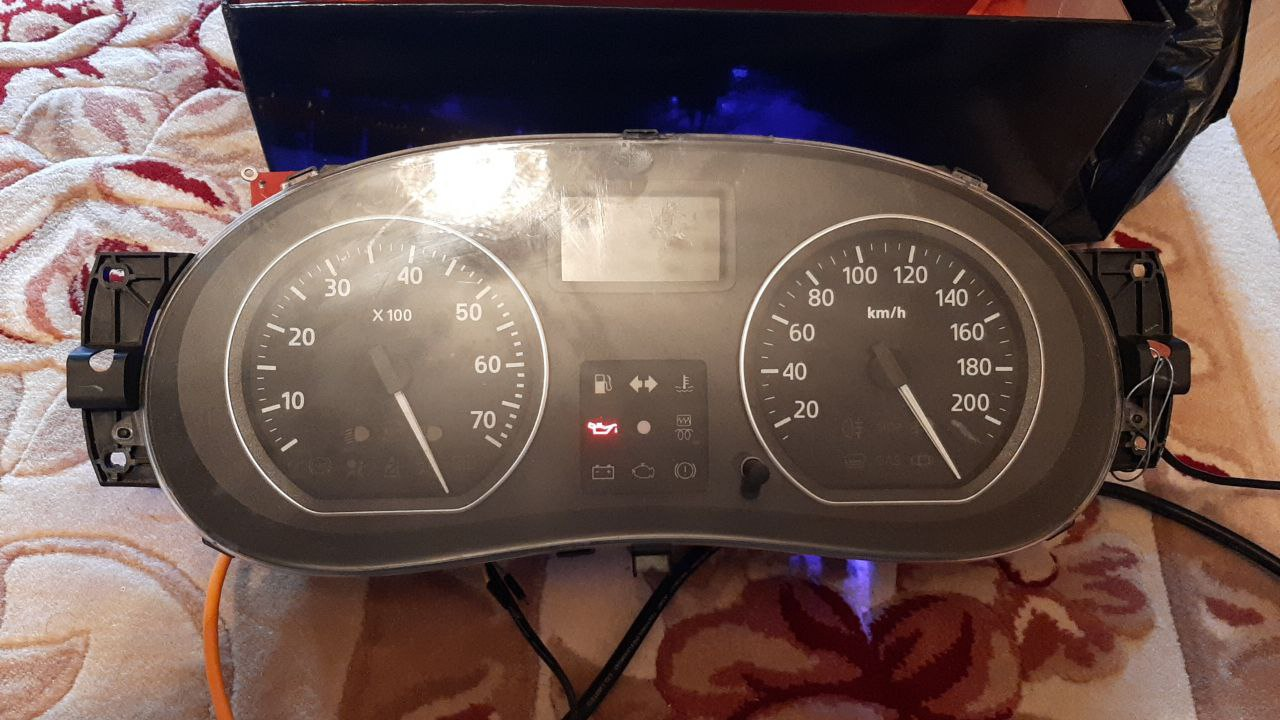oil: (580, 414, 621, 439)
